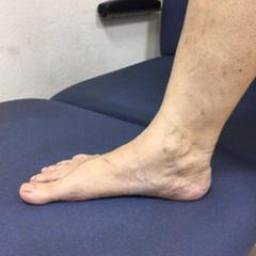Medial View -Right Foot-: (15, 90, 230, 210)
